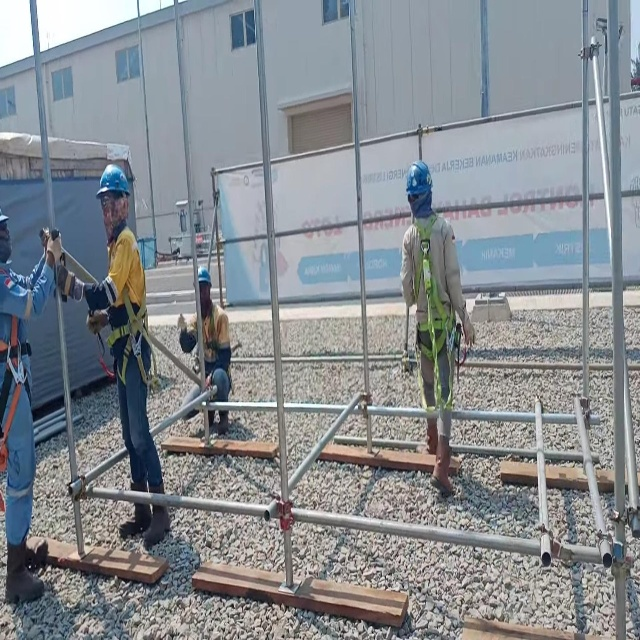Arnes_seguridad: (409, 208, 458, 417), (105, 229, 158, 394), (0, 313, 31, 513), (194, 301, 229, 400)
